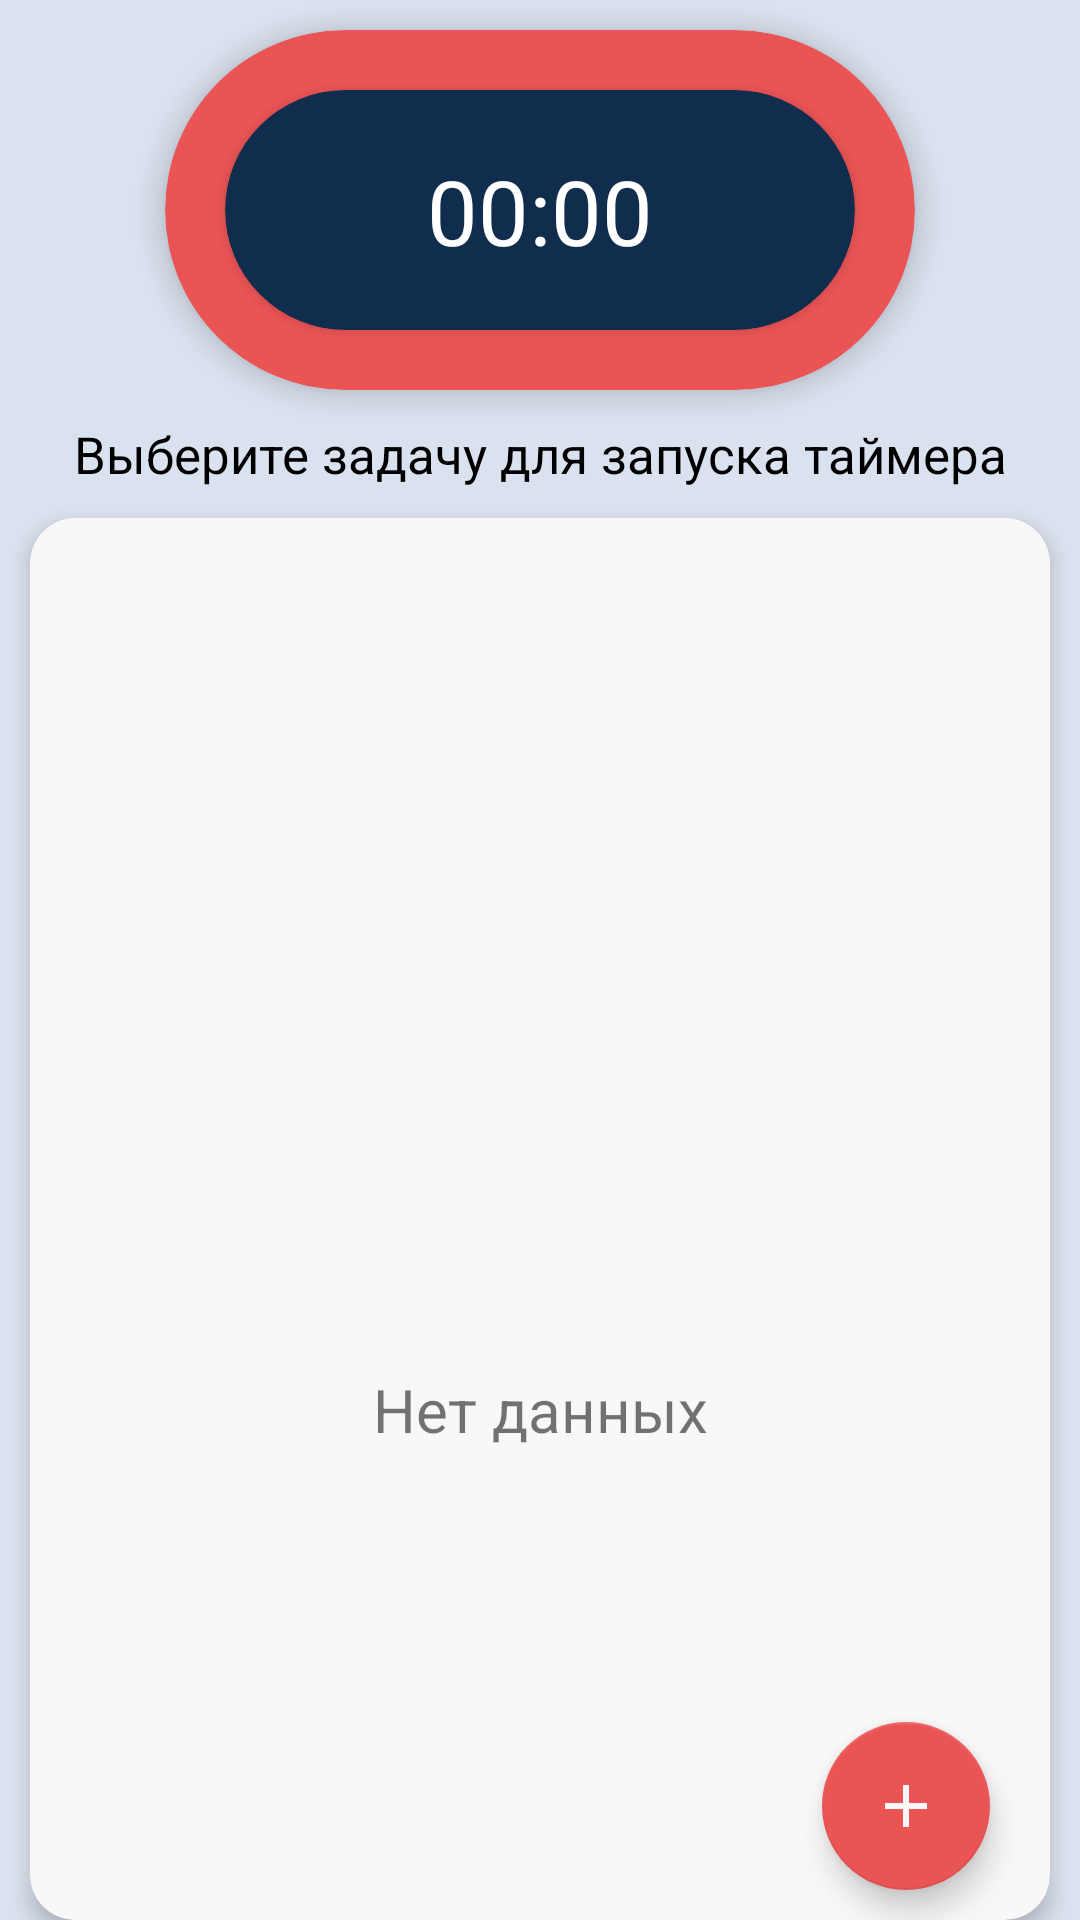

Named icons in this screenshot (1080x1920) and their centers, (x,y):
Добавить задачу с временем: (906,1806)
